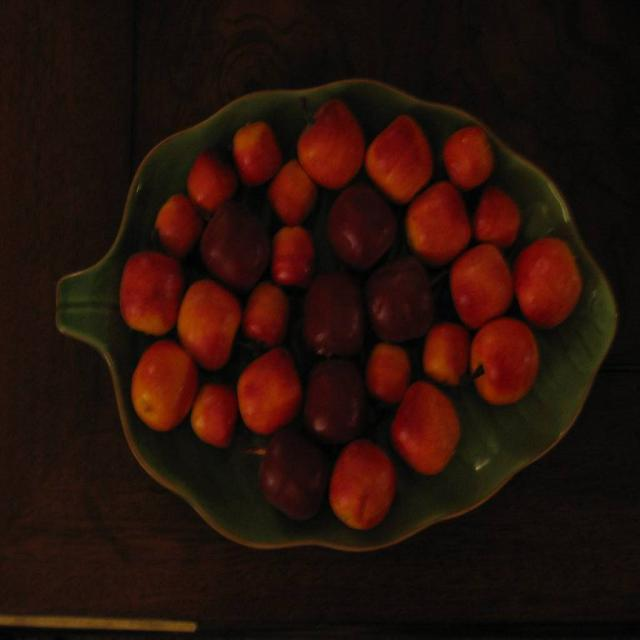Peach: (122, 100, 583, 531)
